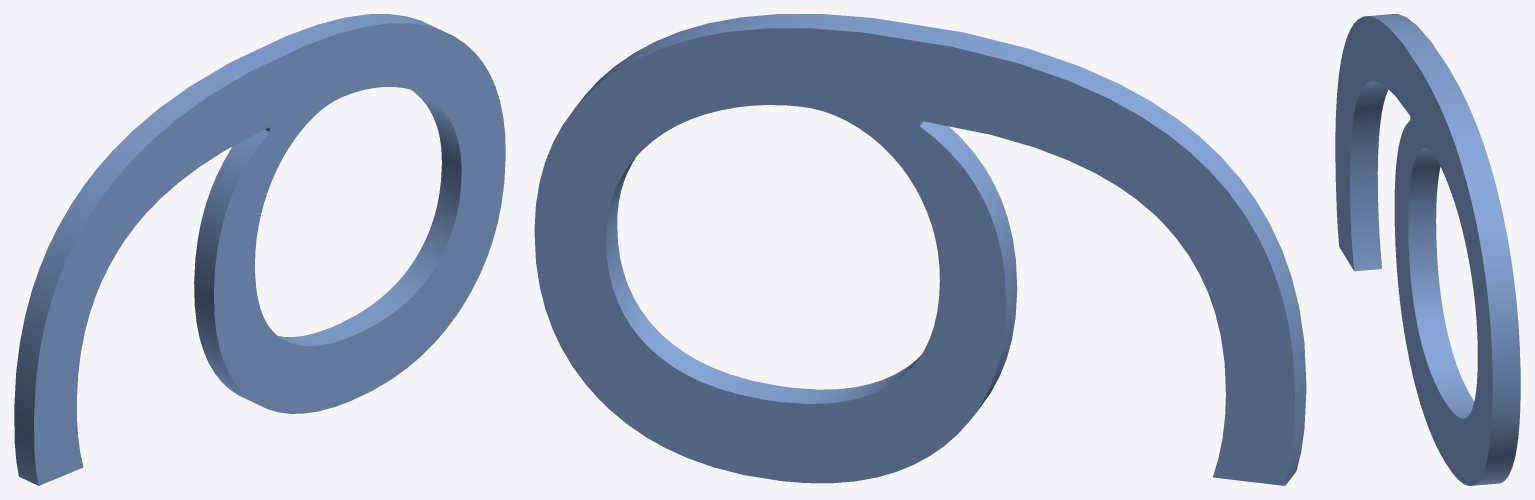
File: New_Number_6.gltf
3 views of the same model, side by side, from view 1: azimuth 30°, elevation 25°; view 2: azimuth 150°, elevation 25°; view 3: azimuth 270°, elevation 25° (orthographic). The views are drawn at different scales.
Parts seen in each view (by area): view 1: Part 429; view 2: Part 429; view 3: Part 429.
Part boxes in pixels (x1=…): Part 429: x1=14, y1=14, x2=505, y2=485; Part 429: x1=534, y1=14, x2=1306, y2=485; Part 429: x1=1335, y1=14, x2=1520, y2=485.
Bounding box in the file's own units: 0.00553 × 0.00358 × 0.00165.
